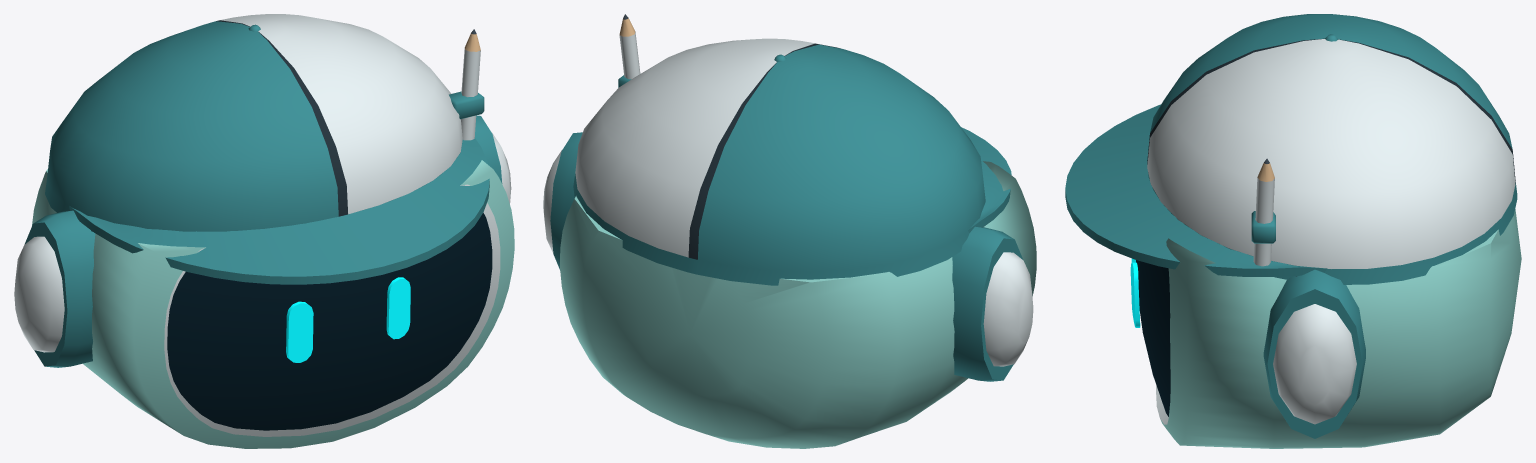
The model's file is copilot_analyst_v01.glb.
3 renders of one model, left to right at view 1: azimuth 30°, elevation 25°; view 2: azimuth 150°, elevation 25°; view 3: azimuth 270°, elevation 25°, orthographic. The views are drawn at different scales.
Parts seen in each view (by area): view 1: analyst_model; view 2: analyst_model; view 3: analyst_model.
Part boxes in pixels (<box>): analyst_model: <box>14,14,514,448</box>; analyst_model: <box>543,14,1036,448</box>; analyst_model: <box>1065,14,1521,448</box>.
Bounding box in the file's own units: 2.82 × 2.02 × 2.23.
2 materials, 2 textured.
